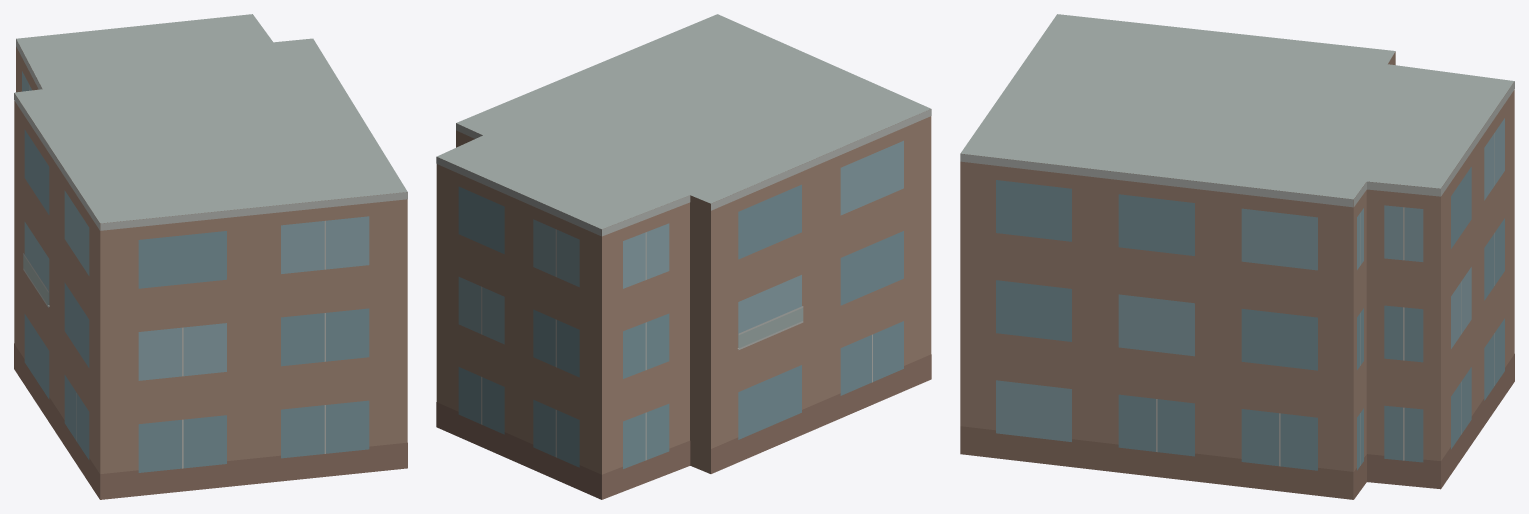
Rendered from survey-upis-32702437.glb.
The picture shows the model from 3 angles, left to right: view 1: azimuth 30°, elevation 25°; view 2: azimuth 150°, elevation 25°; view 3: azimuth 270°, elevation 25°; orthographic projection. The views are drawn at different scales.
Visible parts, largest first — view 1: survey-upis-32702437.tmp; view 2: survey-upis-32702437.tmp; view 3: survey-upis-32702437.tmp.
Boxes of the visible parts, box(x1,y1,x2,y2) form: survey-upis-32702437.tmp: box(14, 14, 407, 499); survey-upis-32702437.tmp: box(436, 14, 931, 499); survey-upis-32702437.tmp: box(960, 14, 1514, 499).
Size of the model in its own units: 12.11 by 9.15 by 15.31.
